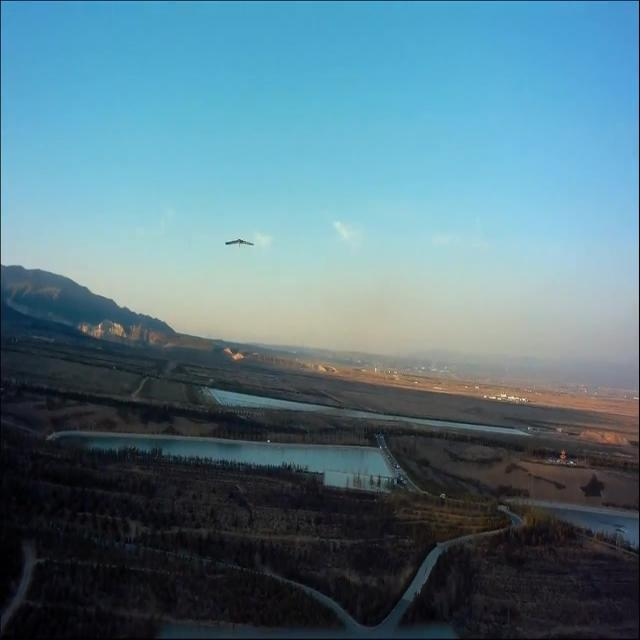iha: (225, 240, 255, 246)
